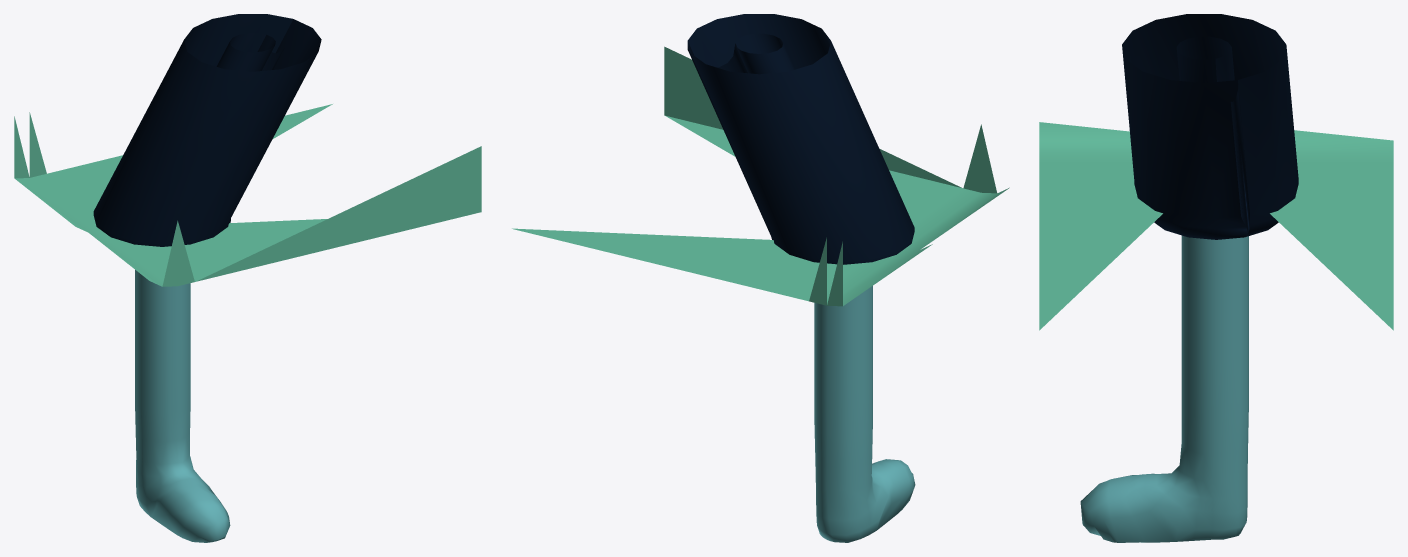
Rendered from bmopataizq.obj.
3 views of the same model, side by side, from view 1: azimuth 30°, elevation 25°; view 2: azimuth 150°, elevation 25°; view 3: azimuth 270°, elevation 25° (orthographic). The views are drawn at different scales.
Visible parts, largest first — view 1: BmoPataIzq; view 2: BmoPataIzq; view 3: BmoPataIzq.
Boxes of the visible parts, bbox=[...] form: BmoPataIzq: bbox=[14, 14, 481, 542]; BmoPataIzq: bbox=[512, 14, 1009, 542]; BmoPataIzq: bbox=[1039, 14, 1393, 542].
Bounding box in the file's own units: 1.01 × 1.3 × 0.7788.
